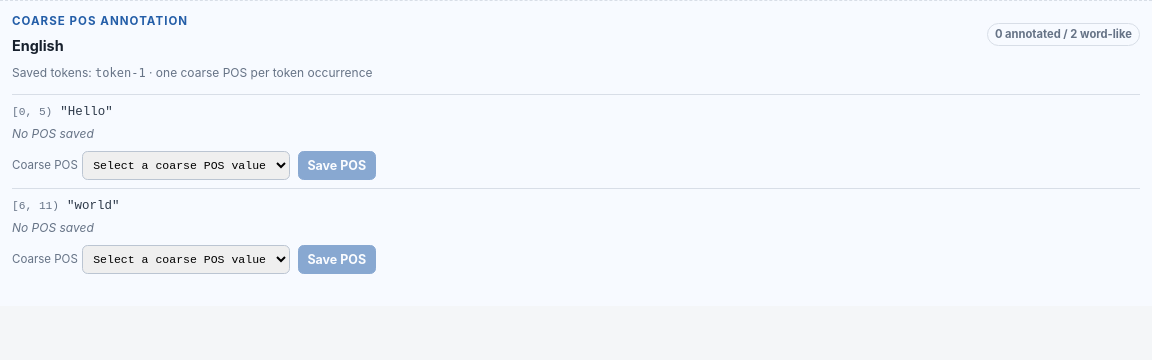
Test case: PosAnnotationPanel › presents INVALID_POS_TARGET for an ineligible target
Select "NOUN" in the dropdown named "Coarse POS for Hello". click: (186, 166)
box: [82,151,290,180]
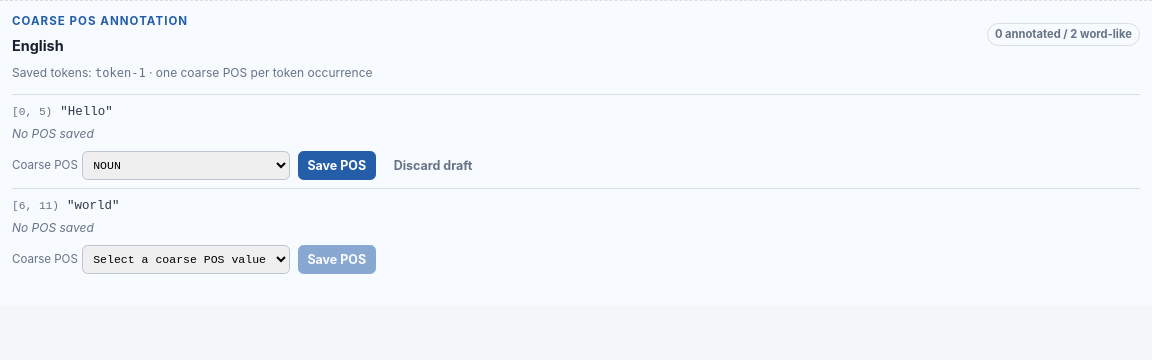
Click the button "Save POS" below "\"Hello\"". click: click(337, 166)
box: [298,151,376,180]
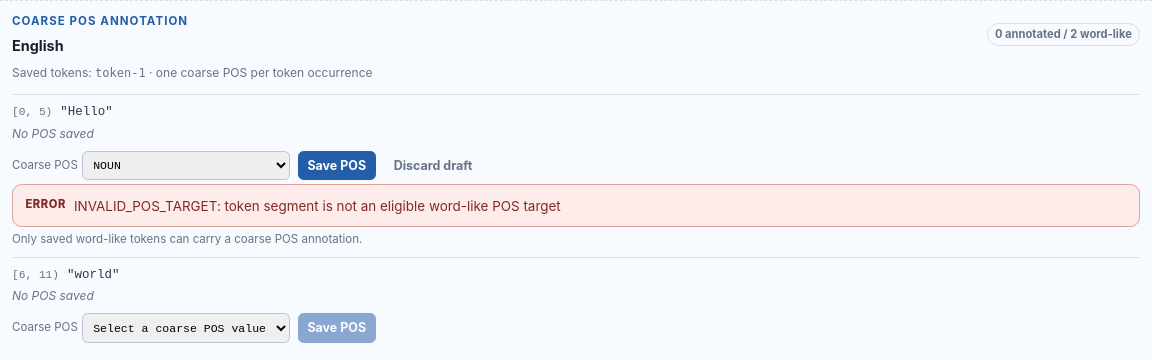
expect the text "Only saved word-like tokens can carry a coarse POS annotation." is shown: met, box [12,232,362,246]
